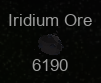Iridium: (8, 12, 93, 73)
